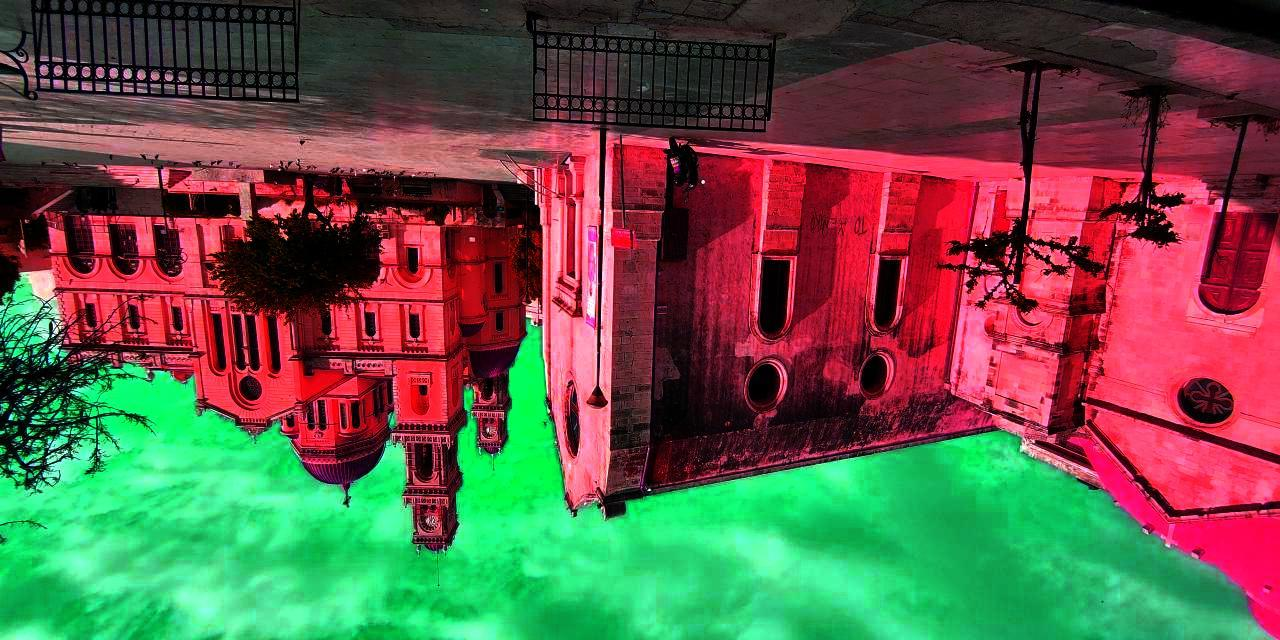Agia Aikaterini: (526, 151, 1280, 637)
